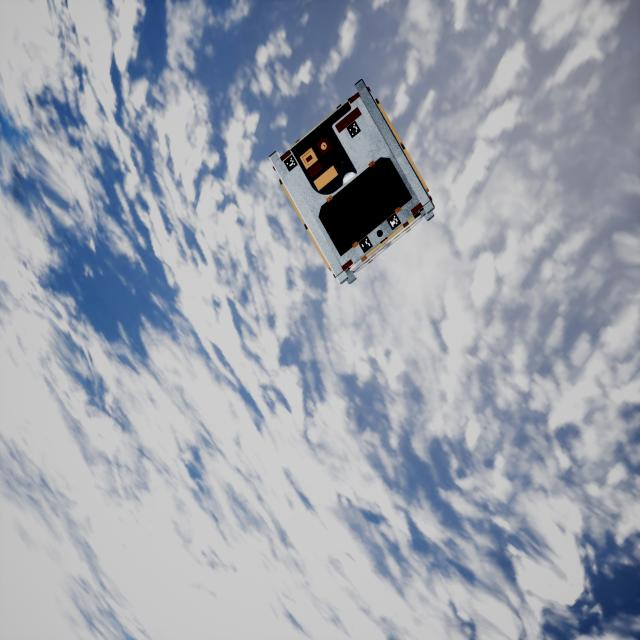satellite: (258, 77, 456, 289)
